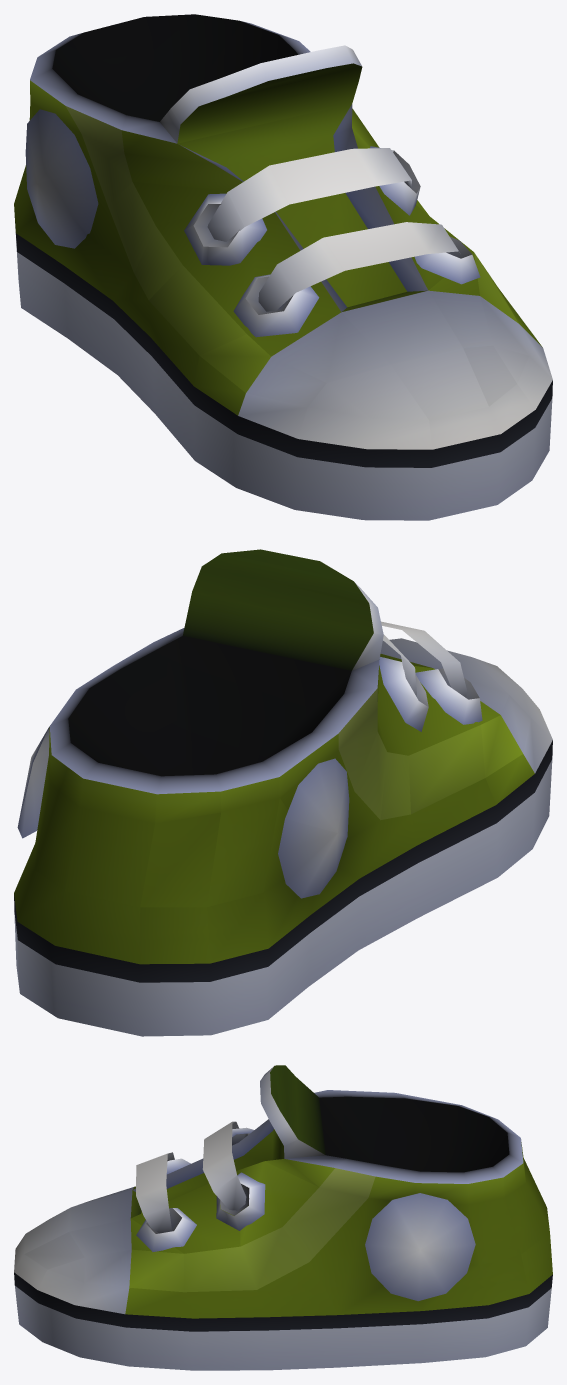
The model's file is Shoes_Kicks_Green_L.gltf.
3 renders of one model, top to bottom at view 1: azimuth 30°, elevation 25°; view 2: azimuth 150°, elevation 25°; view 3: azimuth 270°, elevation 25°, orthographic. The views are drawn at different scales.
Visible parts, largest first — view 1: Shoes_Kicks_Green_L; view 2: Shoes_Kicks_Green_L; view 3: Shoes_Kicks_Green_L.
Part boxes in pixels (bbox=[...]): Shoes_Kicks_Green_L: bbox=[14, 14, 552, 520]; Shoes_Kicks_Green_L: bbox=[14, 549, 552, 1036]; Shoes_Kicks_Green_L: bbox=[14, 1065, 552, 1370].
Bounding box in the file's own units: 0.3008 × 0.3011 × 0.6317.
2 materials, 2 textured.
